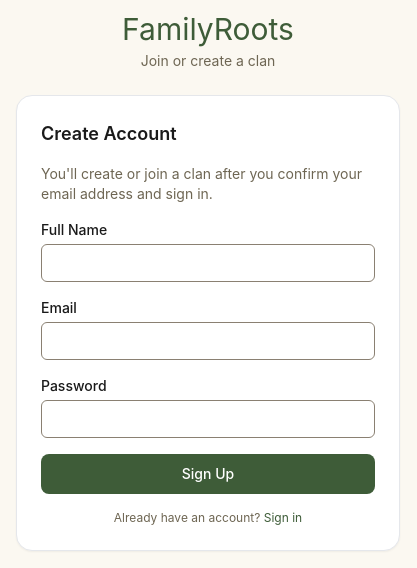
Test: register: the success screen says nothing in English that it should not › opens on the heading under en
This screenshot has width=417, height=568.
Type "Trần Văn A" into the field labelled "Full Name" at (208, 263), box [41,244,375,282]
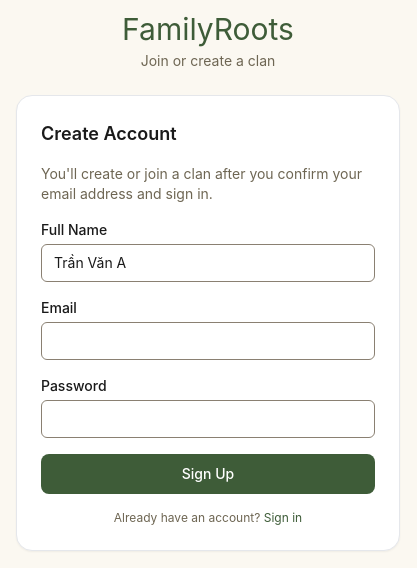
Type "a@example.com" into the field labelled "Email" at (208, 341), box [41,322,375,360]
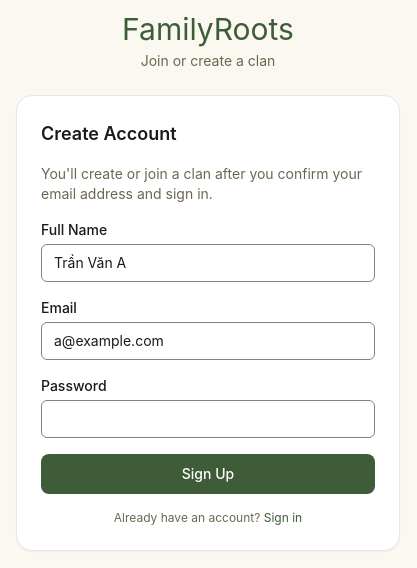
Type "correct horse battery" into the password field labelled "Password" at (208, 419), box [41,400,375,438]
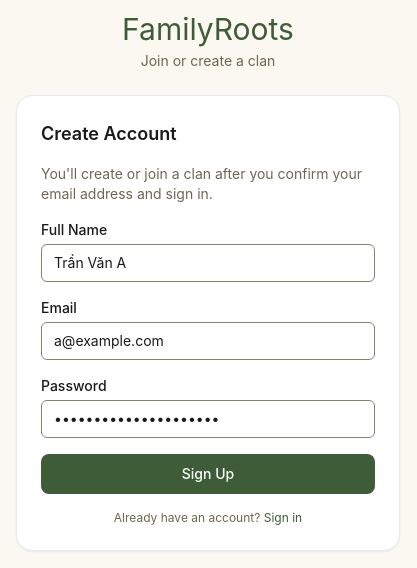
Click the button "Sign Up" at (208, 474), box [41,454,375,494]
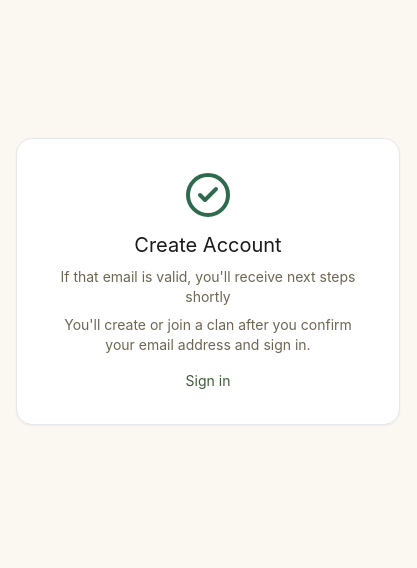
Expected: the heading "Create Account" is shown, [134,232,282,256]
Expected: the text "If that email is valid, you'll receive next steps shortly" is shown, [49,266,367,306]
